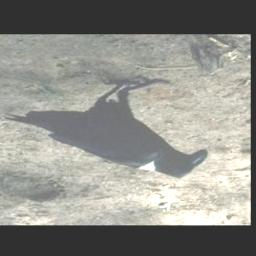Crow: (1, 76, 208, 181)
